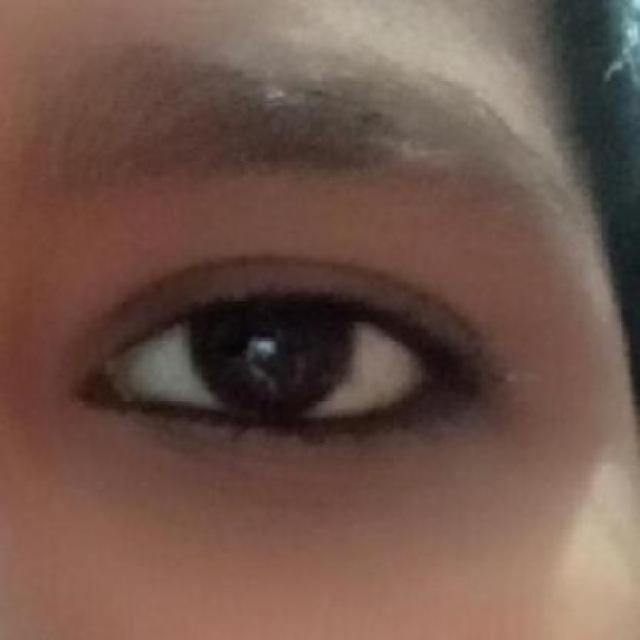awake: (80, 257, 466, 441)
